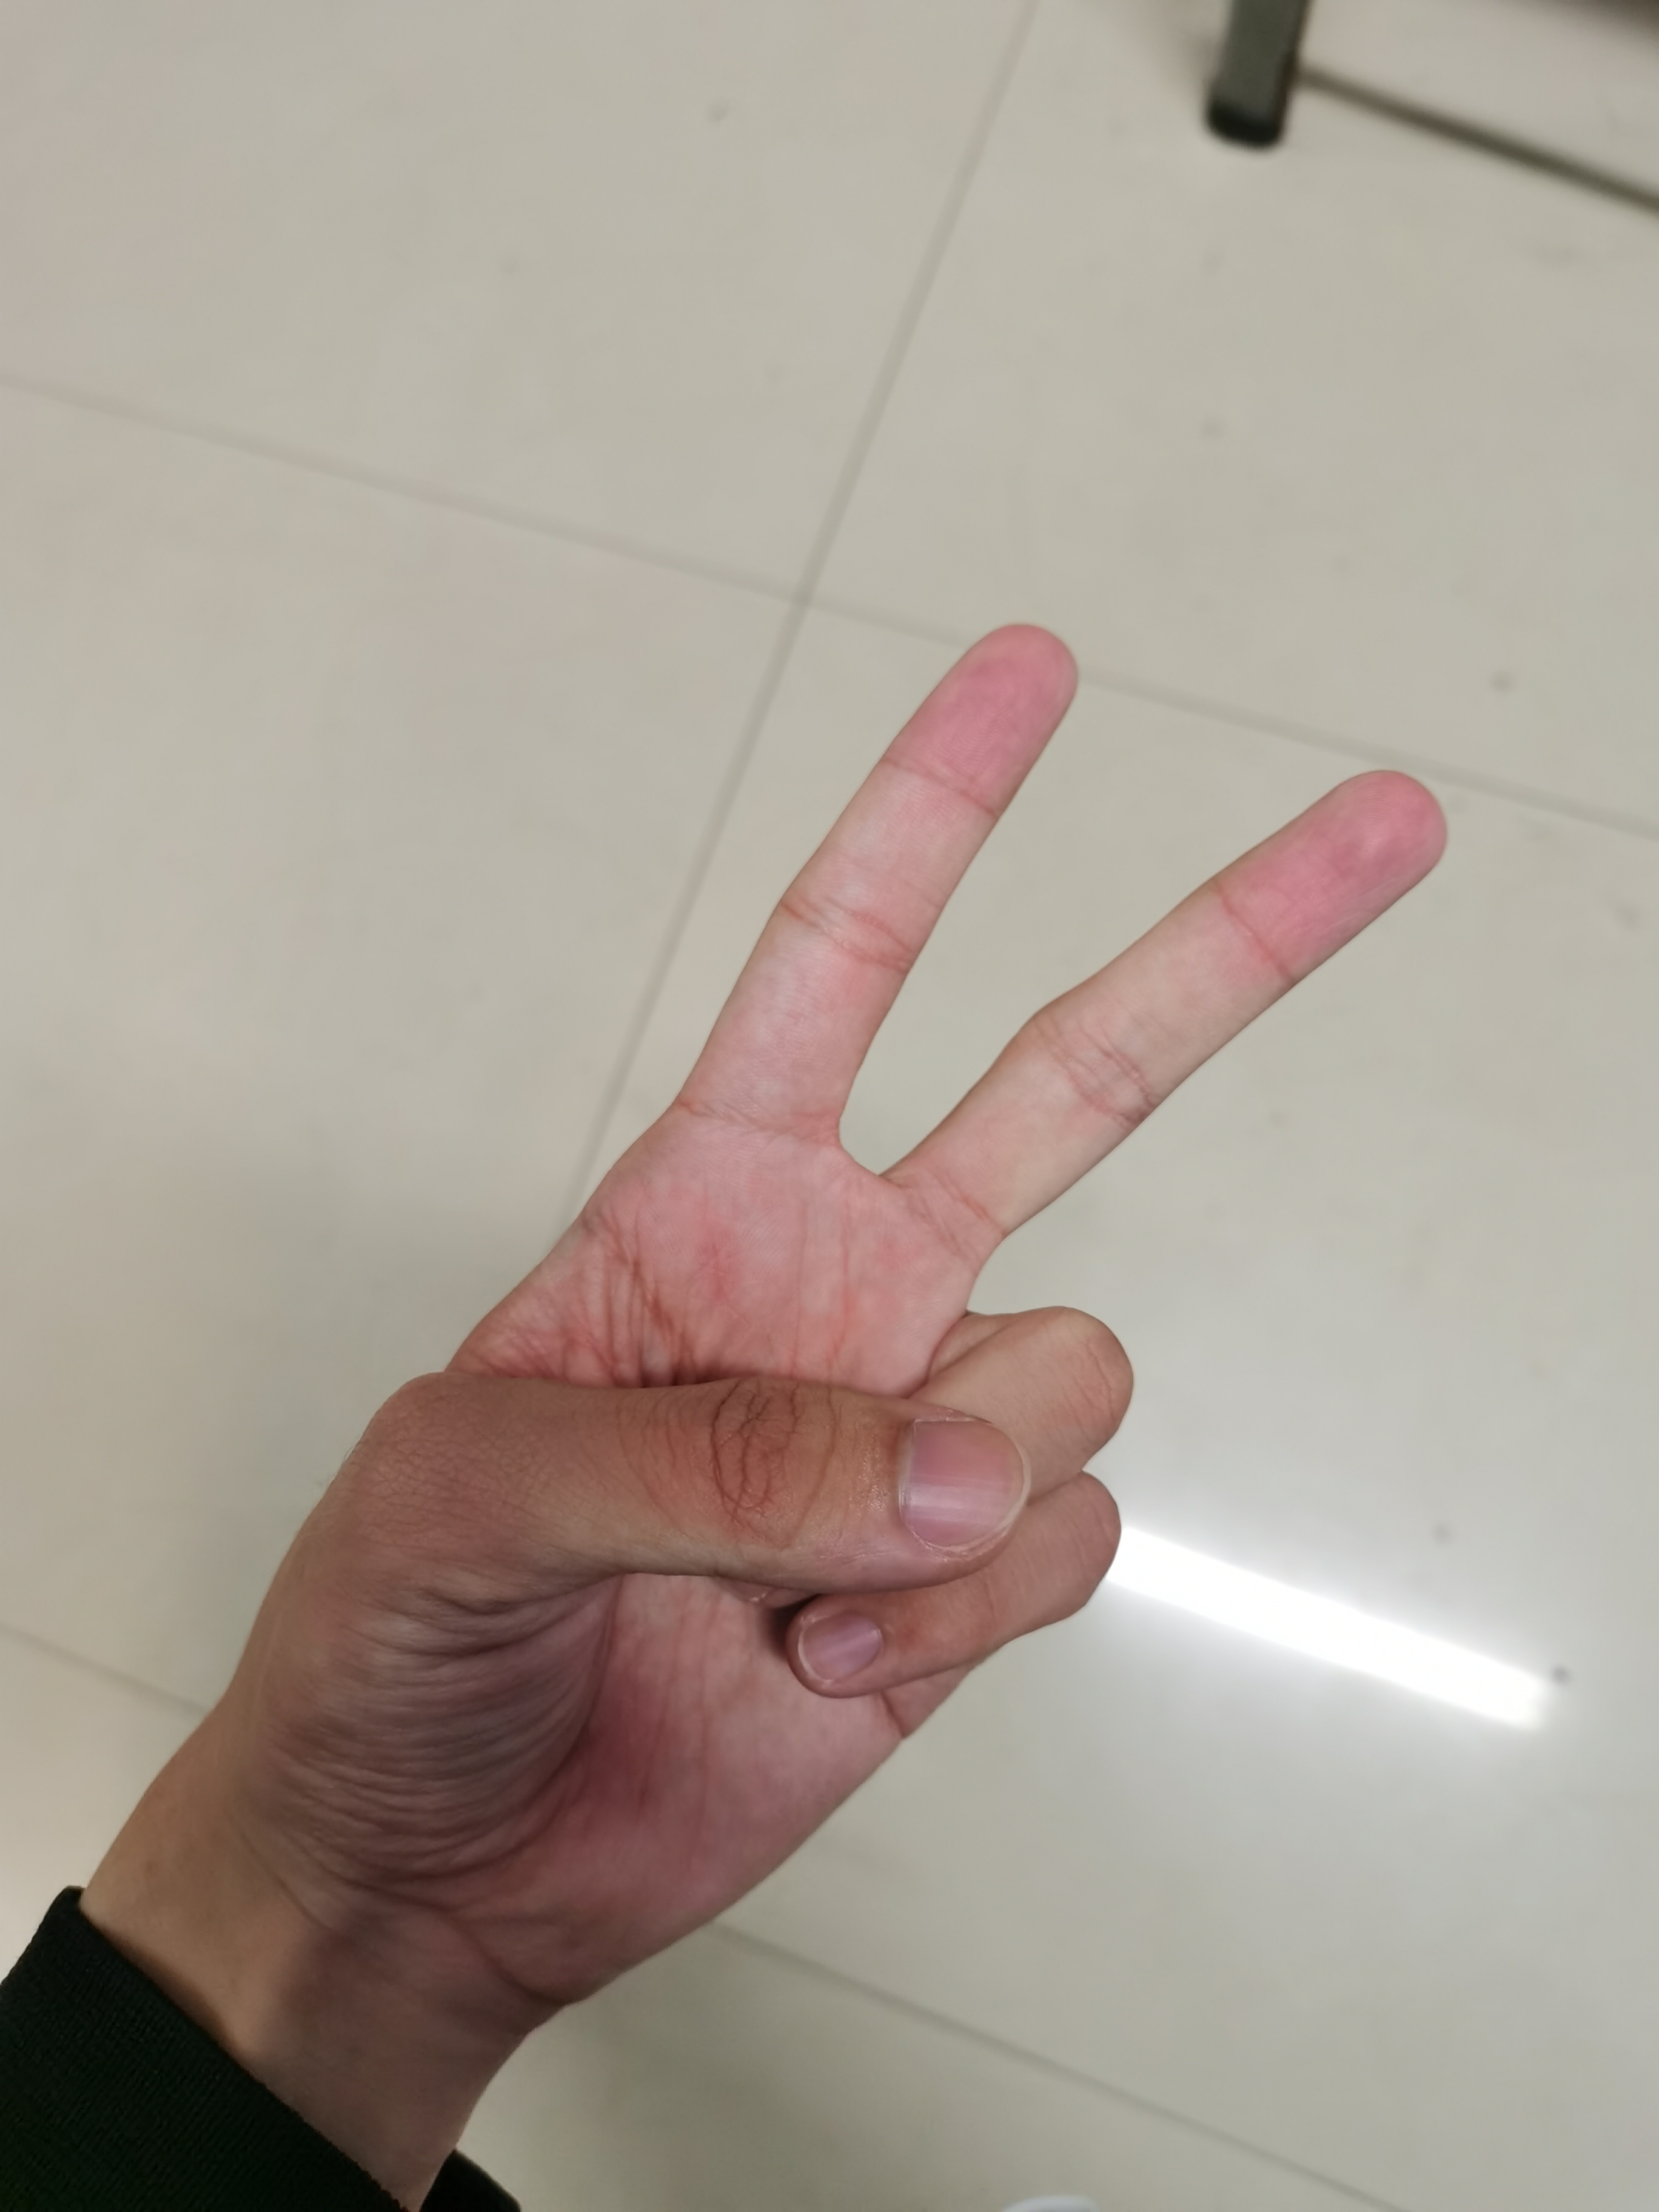no-phone: (164, 573, 1488, 2043)
